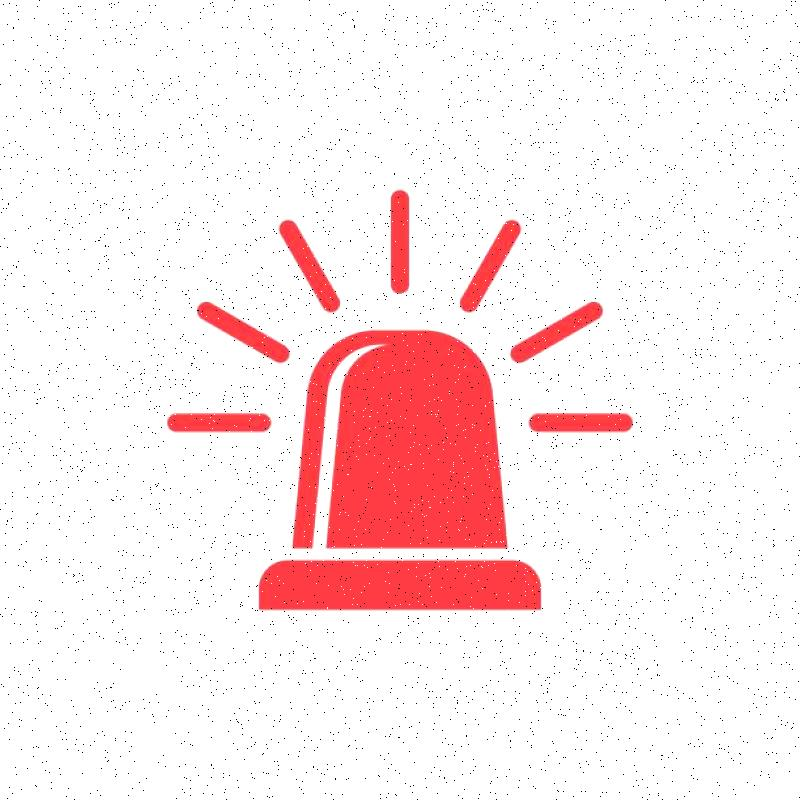AmbulanceSiren: (232, 282, 538, 576)
